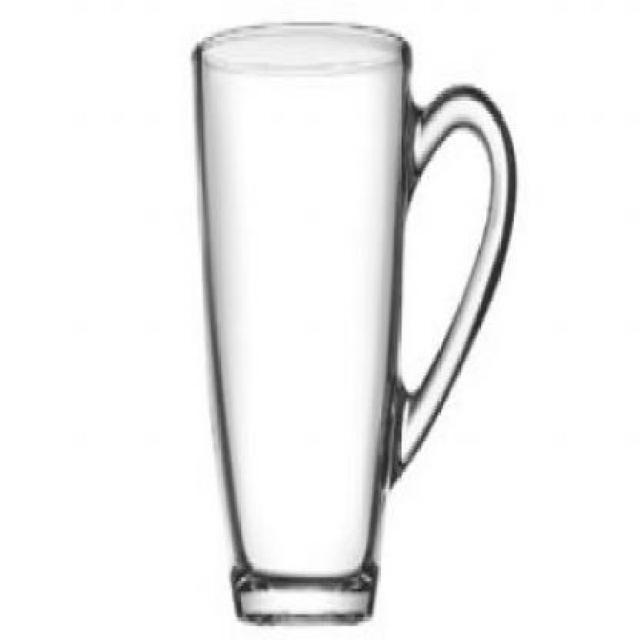taza: (184, 15, 526, 625)
